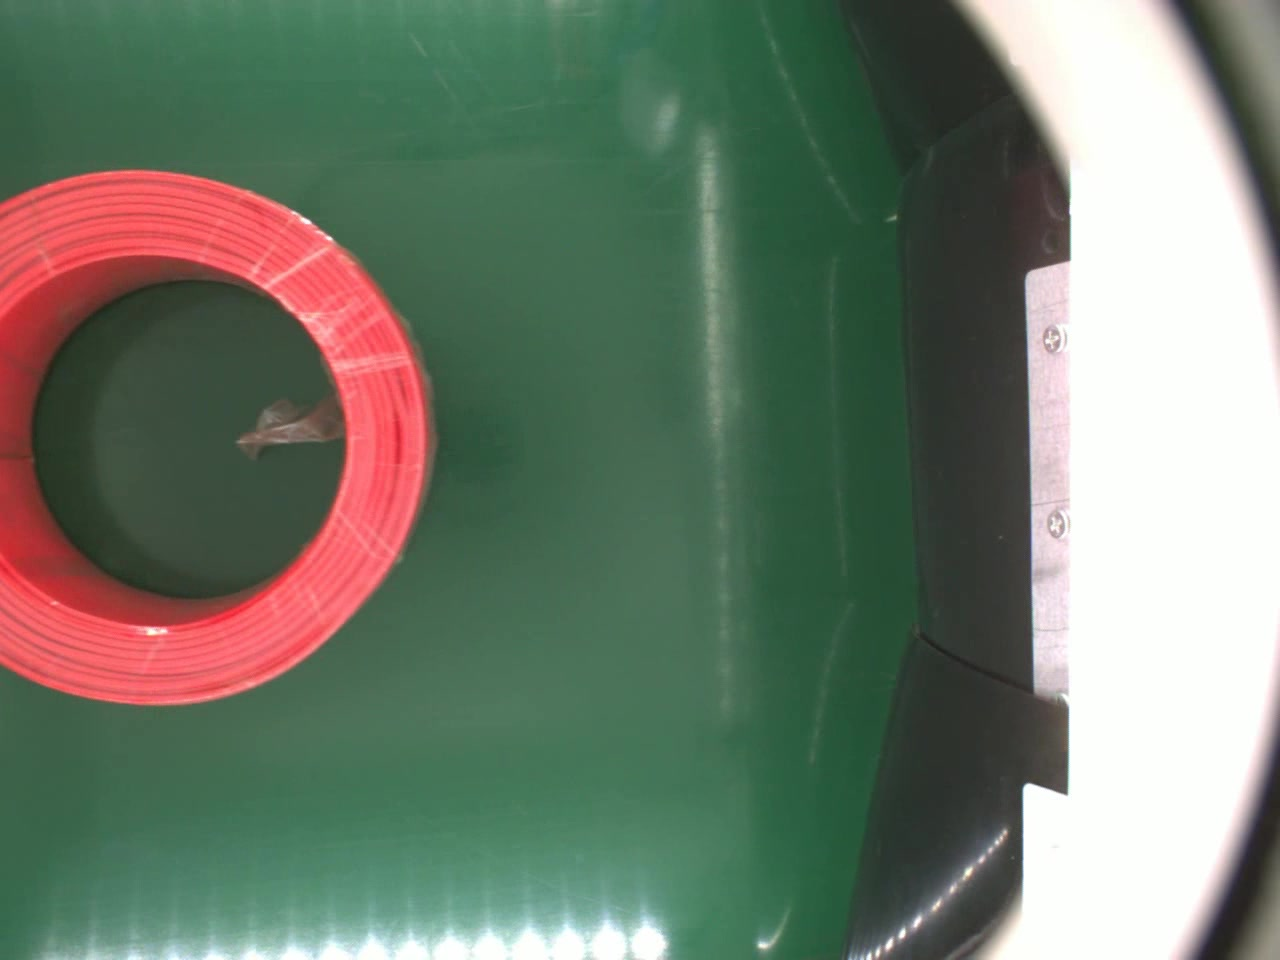red: (0, 165, 436, 710)
